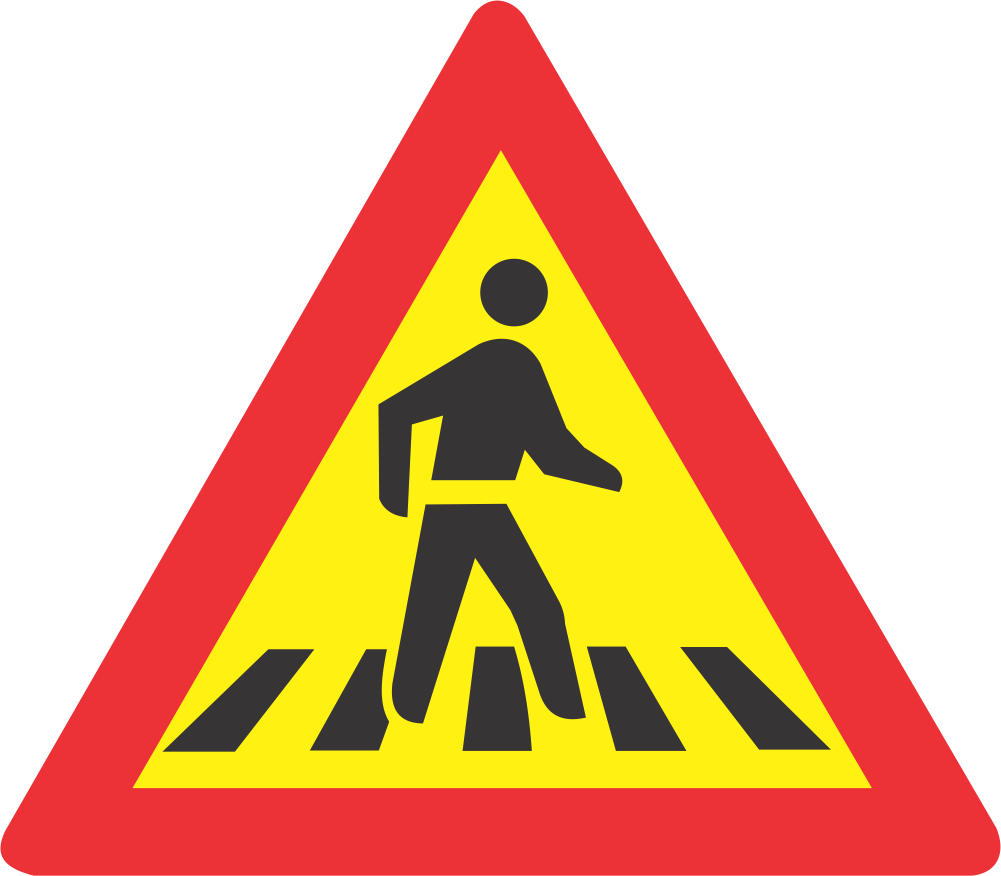CrossSign: (8, 5, 1001, 869)
